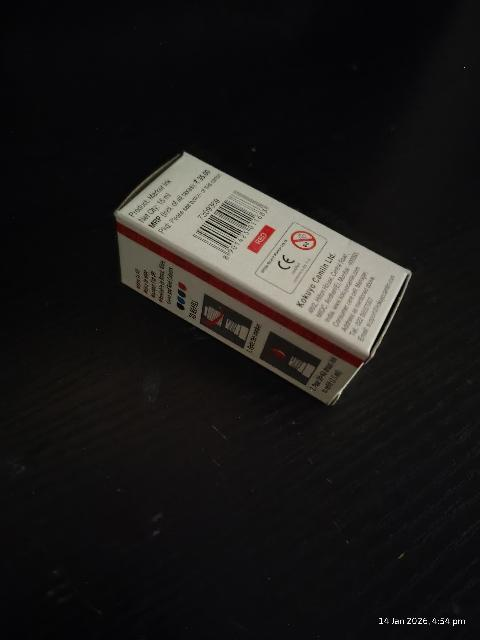camlin marker ink: (102, 166, 403, 401)
